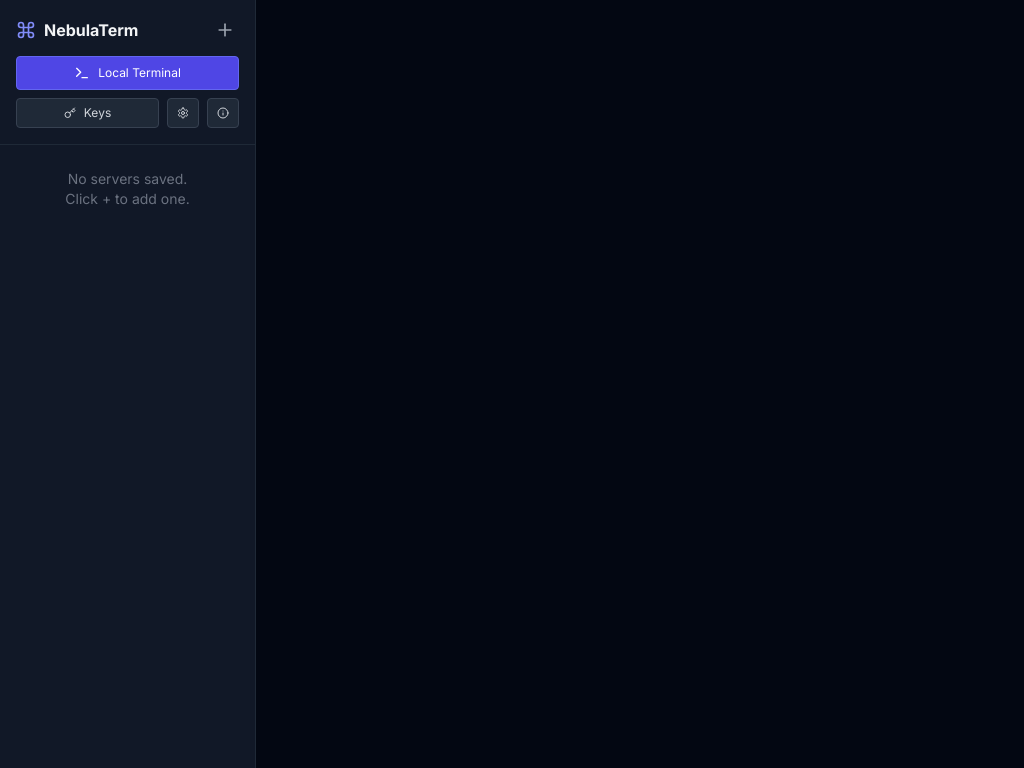
Test case: ServerList › shows add-server form when Plus button is clicked
The width and height of the screenshot is (1024, 768).
What coordinates should you click on to do the following:
click the button titled "Add Server"
I would click on:
 (225, 30)
Its box is top-left (211, 16), bottom-right (239, 44).
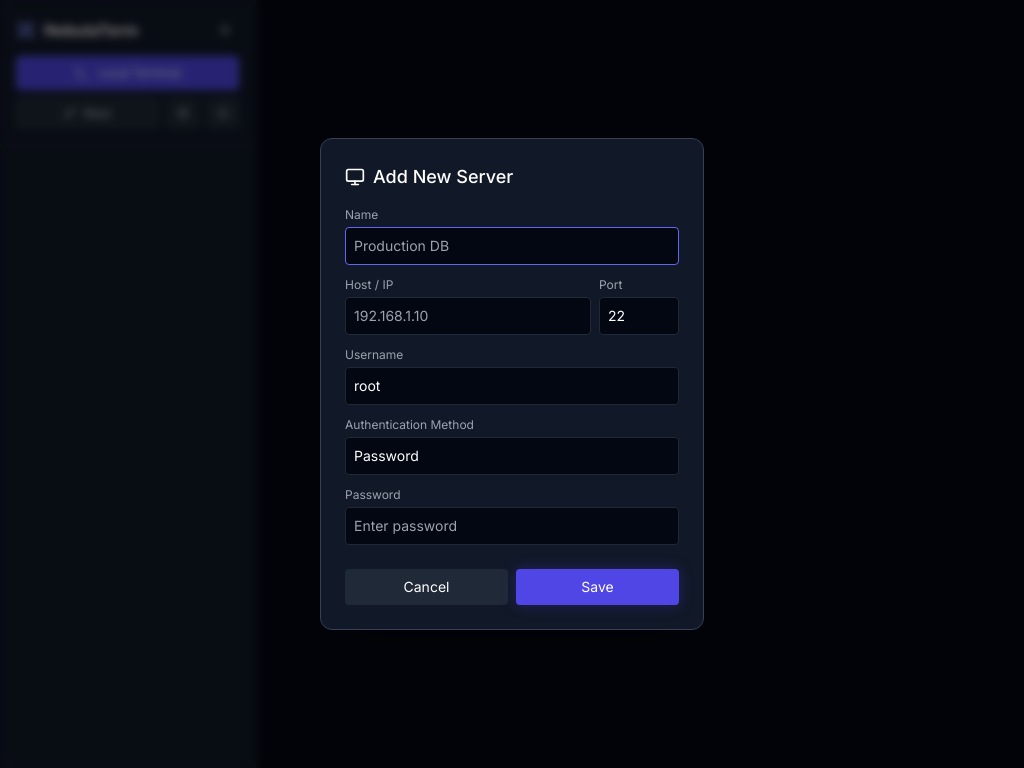
Expected: the heading "Add New Server" is shown, top-left (345, 166), bottom-right (513, 187)
Expected: the field with placeholder "Production DB" is shown, top-left (345, 227), bottom-right (679, 265)
